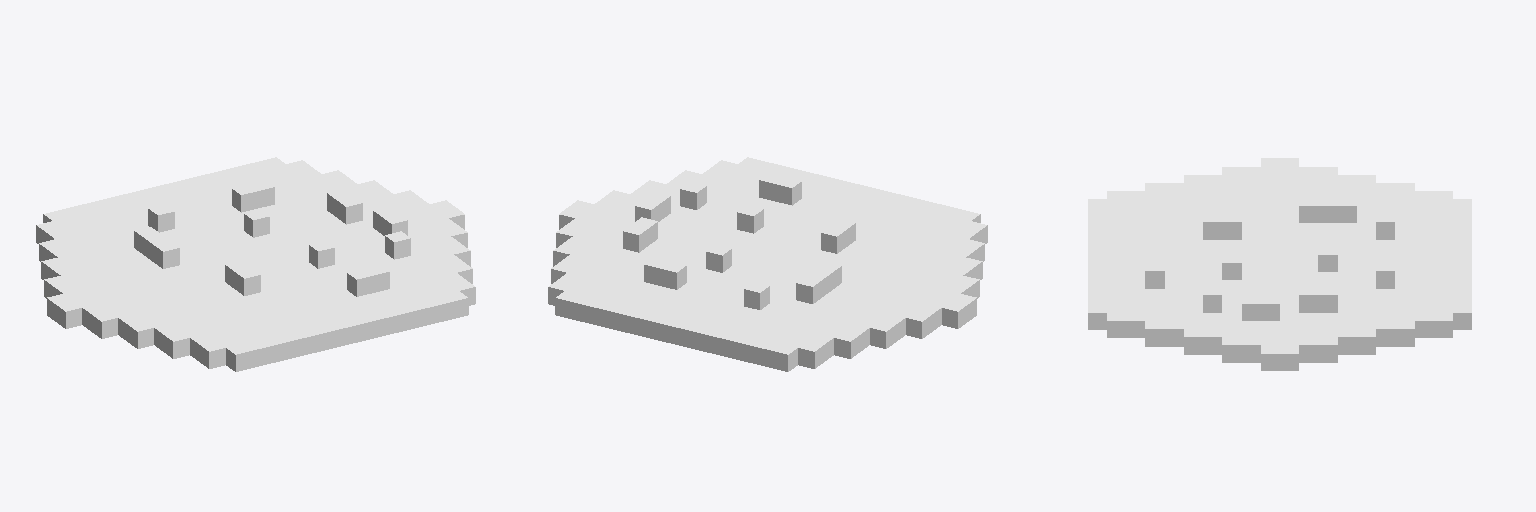
The model's file is overworld-10-snow_icelake.obj.
3 renders of one model, left to right at view 1: azimuth 30°, elevation 25°; view 2: azimuth 150°, elevation 25°; view 3: azimuth 270°, elevation 25°, orthographic.
Visible parts, largest first — view 1: snow_icelake; view 2: snow_icelake; view 3: snow_icelake.
Part boxes in pixels (x1,y1,x2,y2): snow_icelake: (36,157,475,371); snow_icelake: (548,157,987,371); snow_icelake: (1088,158,1471,370).
Size of the model in its own units: 2.4 by 0.2 by 2.